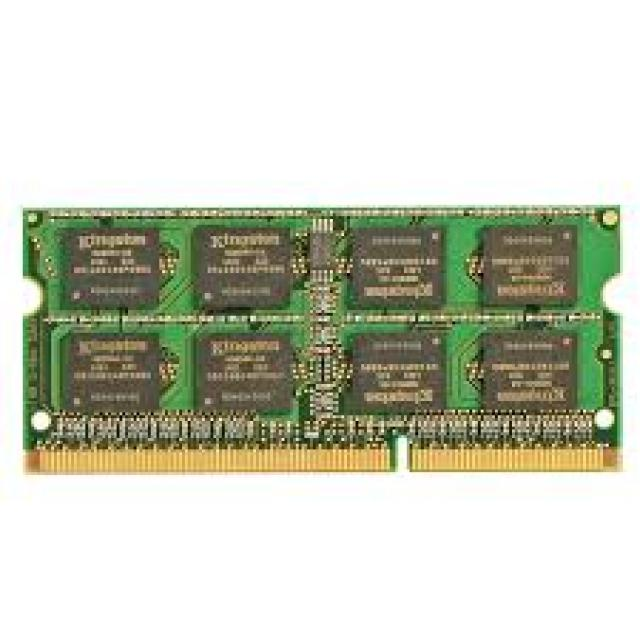Ram: (40, 140, 587, 565)
